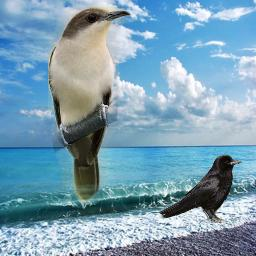Crow: (158, 154, 243, 223)
Cuckoo: (48, 7, 131, 204)
